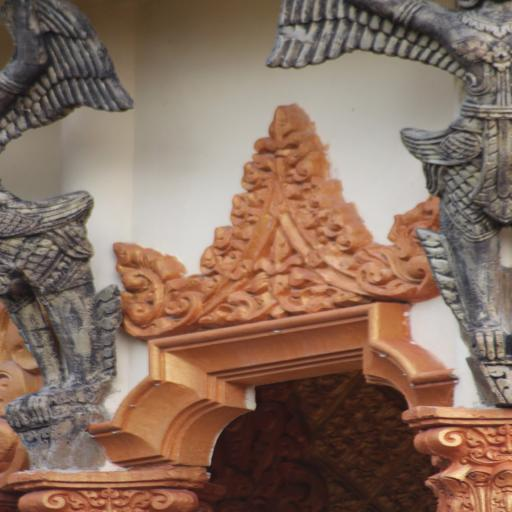la: (214, 110, 336, 238), (337, 202, 443, 301), (208, 239, 332, 323), (119, 243, 206, 334)
than: (336, 1, 512, 363), (0, 0, 122, 427)
